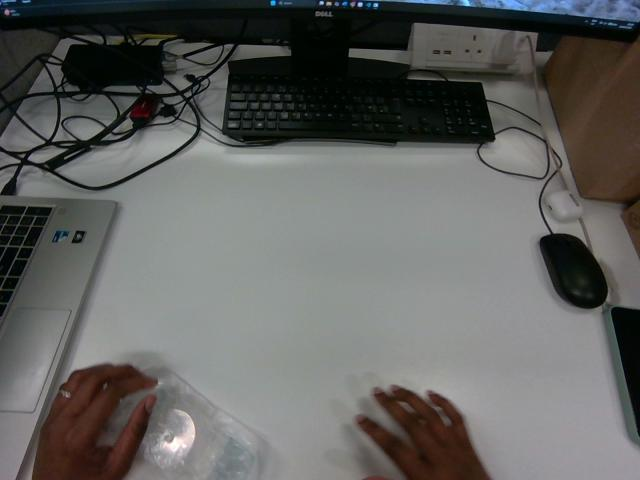gallipot: (101, 369, 258, 479)
